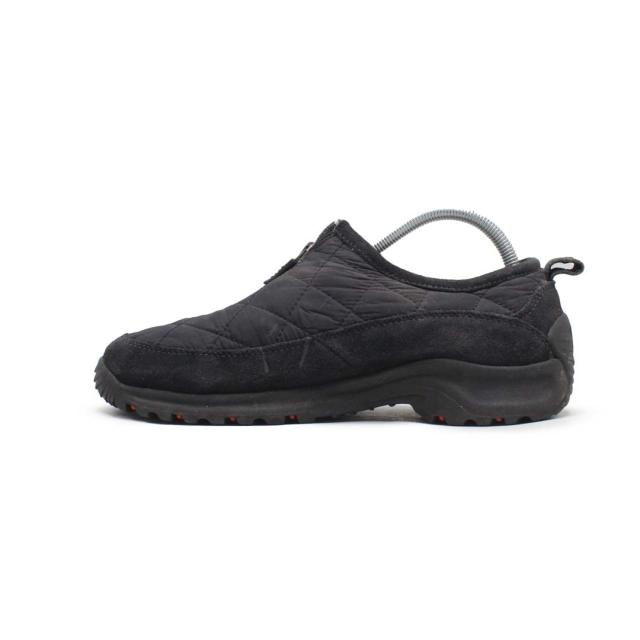heel: (479, 257, 583, 370)
midsole: (93, 311, 577, 427)
uppersole: (101, 219, 483, 393)
